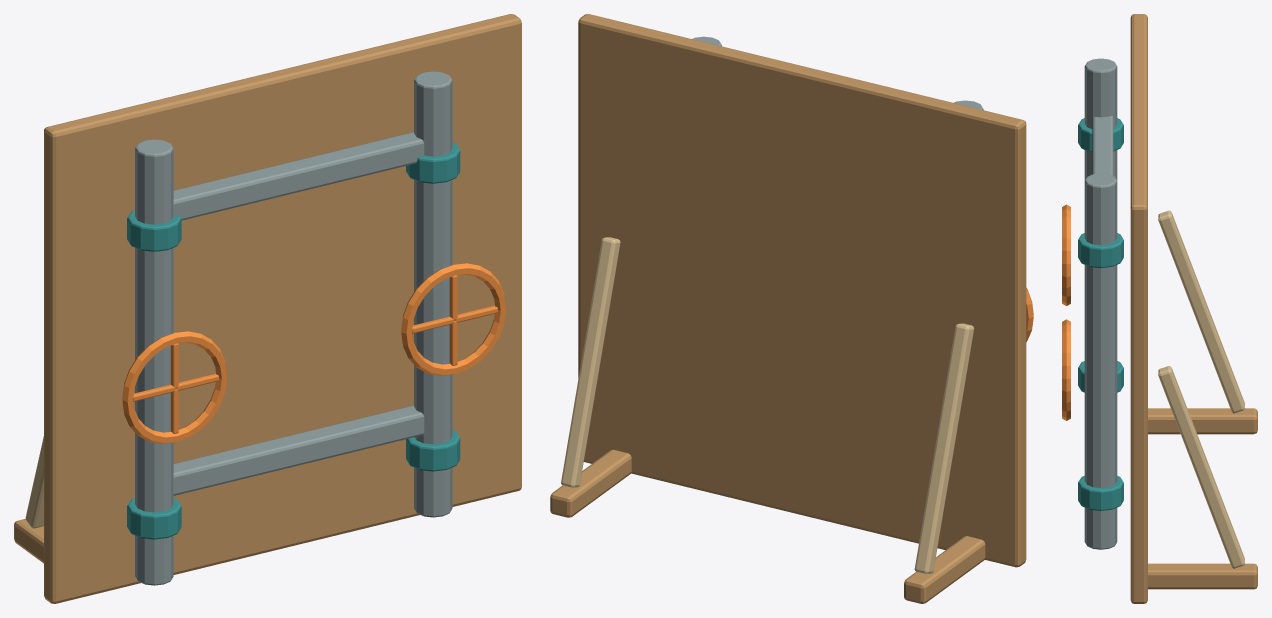
File: S085_pipe_valve_wall.glb
3 renders of one model, left to right at view 1: azimuth 30°, elevation 25°; view 2: azimuth 150°, elevation 25°; view 3: azimuth 270°, elevation 25°, orthographic. The views are drawn at different scales.
Parts seen in each view (by area): view 1: pipe_plywood_back, vertical_pipe, vertical_pipe.001, cross_pipe, cross_pipe.001, pipe_valve_wheel, pipe_valve_wheel.001, pipe_collar, pipe_collar.001, pipe_collar.002, pipe_collar.003, rear_triangular_brace (+1 smaller); view 2: pipe_plywood_back, rear_triangular_brace.001, rear_triangular_brace, rear_plywood_foot.001, rear_plywood_foot; view 3: vertical_pipe.001, pipe_plywood_back, rear_triangular_brace, rear_triangular_brace.001, rear_plywood_foot.001, rear_plywood_foot, vertical_pipe, cross_pipe.001, pipe_collar.002, pipe_collar.003, pipe_valve_wheel, pipe_valve_wheel.001 (+2 smaller).
Part boxes in pixels (bbox=[...]): pipe_plywood_back: bbox=[44, 14, 521, 603]; vertical_pipe: bbox=[135, 139, 173, 585]; vertical_pipe.001: bbox=[414, 71, 452, 517]; cross_pipe: bbox=[173, 405, 424, 495]; cross_pipe.001: bbox=[173, 132, 424, 220]; pipe_valve_wheel: bbox=[122, 331, 227, 443]; pipe_valve_wheel.001: bbox=[401, 263, 505, 375]; pipe_collar: bbox=[127, 498, 181, 539]; pipe_collar.001: bbox=[127, 210, 181, 251]; pipe_collar.002: bbox=[406, 430, 460, 471]; pipe_collar.003: bbox=[406, 142, 460, 183]; rear_triangular_brace: bbox=[25, 436, 43, 528]; pipe_plywood_back: bbox=[578, 14, 1026, 567]; rear_triangular_brace.001: bbox=[561, 237, 620, 487]; rear_triangular_brace: bbox=[914, 323, 974, 574]; rear_plywood_foot.001: bbox=[550, 449, 631, 517]; rear_plywood_foot: bbox=[904, 536, 985, 603]; vertical_pipe.001: bbox=[1084, 173, 1117, 549]; pipe_plywood_back: bbox=[1130, 14, 1147, 603]; rear_triangular_brace: bbox=[1158, 210, 1244, 413]; rear_triangular_brace.001: bbox=[1158, 366, 1244, 568]; rear_plywood_foot.001: bbox=[1148, 563, 1257, 589]; rear_plywood_foot: bbox=[1148, 408, 1257, 434]; vertical_pipe: bbox=[1084, 58, 1117, 180]; cross_pipe.001: bbox=[1092, 116, 1113, 175]; pipe_collar.002: bbox=[1078, 476, 1123, 510]; pipe_collar.003: bbox=[1078, 233, 1123, 267]; pipe_valve_wheel: bbox=[1062, 204, 1070, 305]; pipe_valve_wheel.001: bbox=[1062, 319, 1070, 420].
Size of the model in its own units: 2.4 by 2.3 by 1.02.
